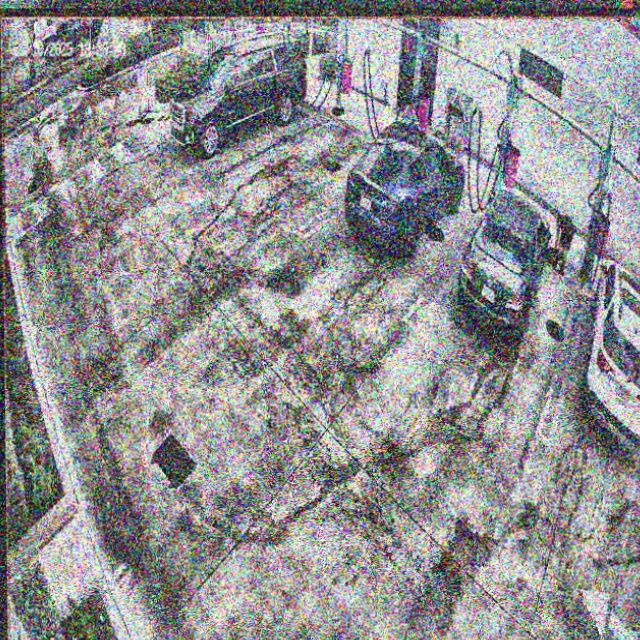Car: (344, 125, 466, 259), (458, 194, 550, 340)
